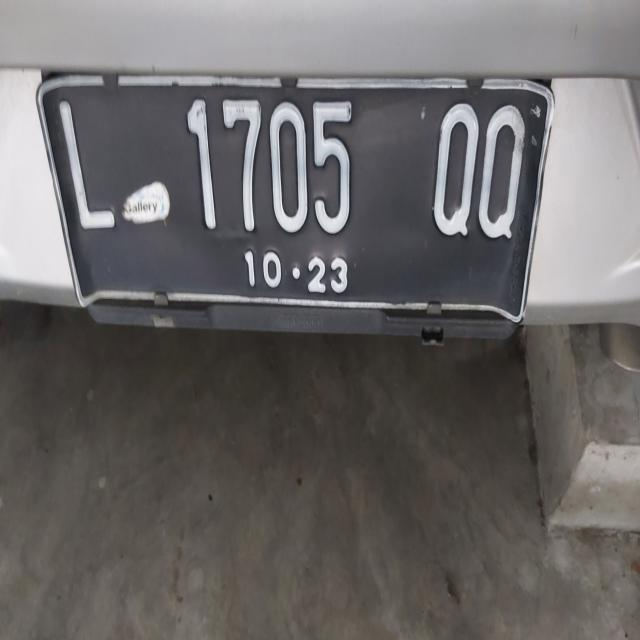0: (264, 72, 320, 246)
1: (172, 86, 228, 248)
5: (304, 78, 366, 254)
7: (214, 84, 266, 258)
L: (51, 85, 125, 250)
Q: (474, 76, 530, 270), (425, 75, 480, 268)
